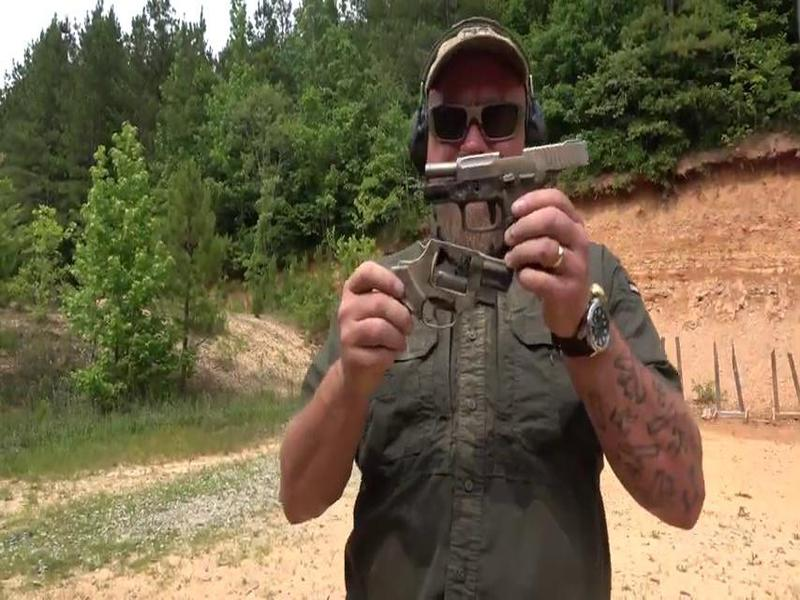Pistola: (412, 128, 607, 285)
Revolver: (343, 224, 507, 358)
